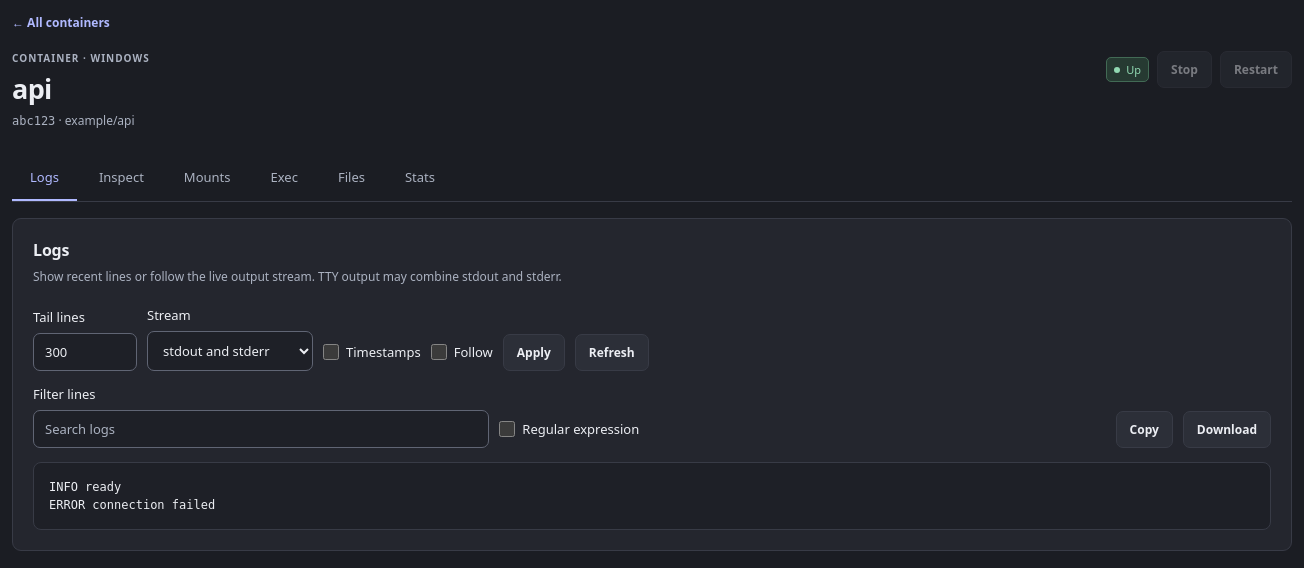
Test: does not offer Windows preparation without operator permission
Step 1. Click the button "Files" → (351, 178), box [320,155,383,201]
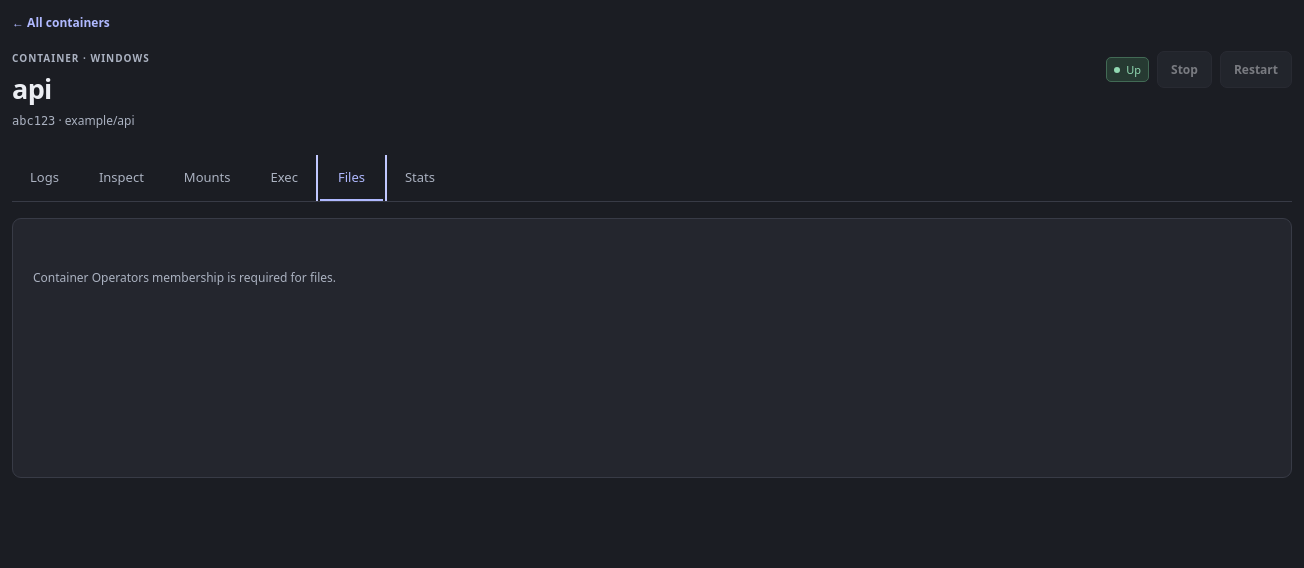
Expected: the text "Container Operators membership is required for files." is shown, [33,269,336,286]
